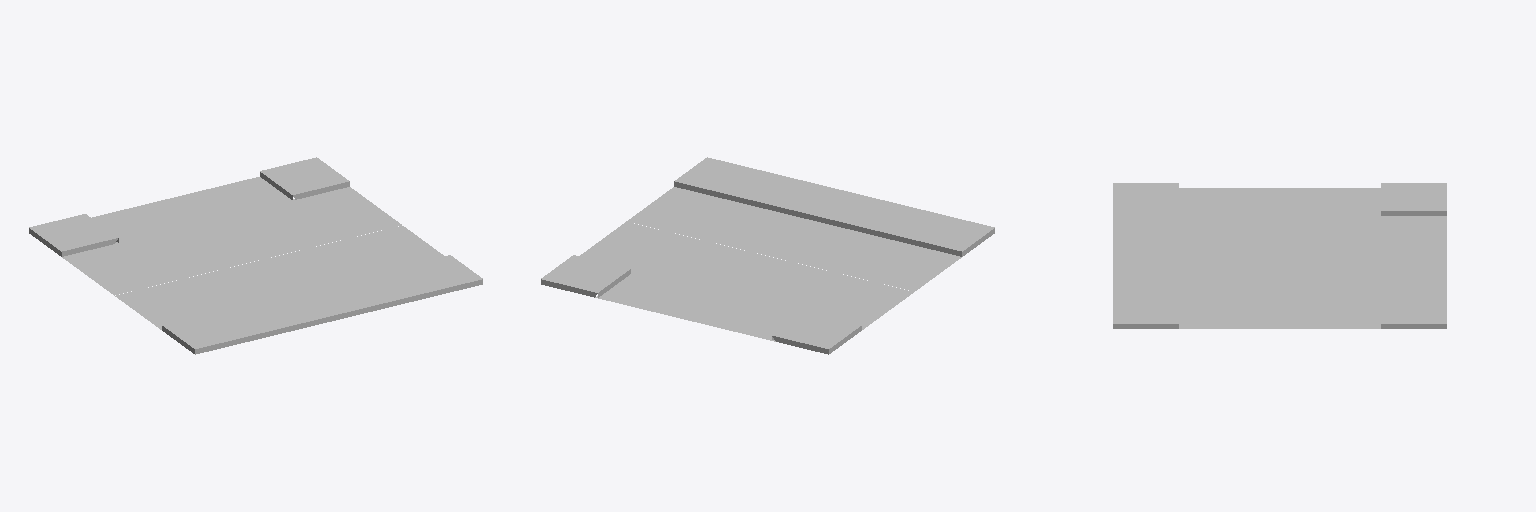
Rendered from 3 way intersection.obj.
3 renders of one model, left to right at view 1: azimuth 30°, elevation 25°; view 2: azimuth 150°, elevation 25°; view 3: azimuth 270°, elevation 25°, orthographic.
Visible parts, largest first — view 1: Plane, Plane.002; view 2: Plane, Plane.002; view 3: Plane, Plane.002.
Boxes of the visible parts, x1,y1,x2,y2 form: Plane: [29, 157, 482, 354]; Plane.002: [110, 197, 401, 295]; Plane: [541, 157, 994, 354]; Plane.002: [621, 222, 913, 314]; Plane: [1113, 183, 1446, 328]; Plane.002: [1275, 188, 1445, 328].
Size of the model in its own units: 1 by 0.0177 by 1.